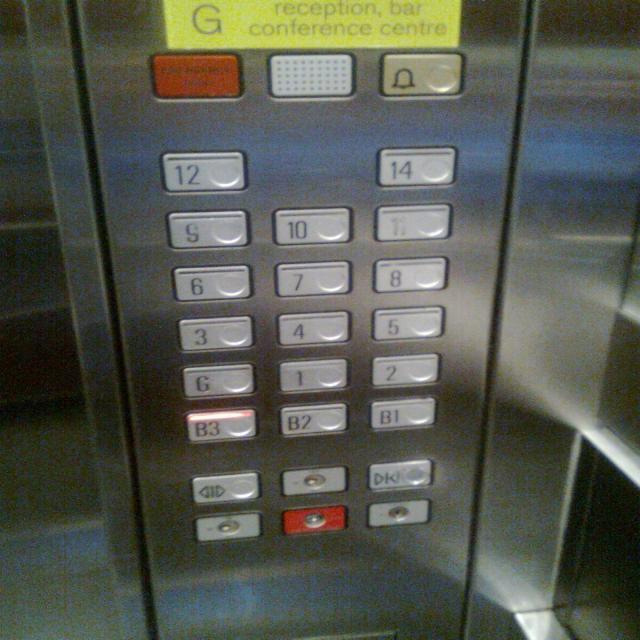1: (274, 356, 350, 393)
10: (270, 205, 353, 246)
11: (372, 202, 452, 242)
12: (159, 150, 248, 194)
14: (375, 143, 457, 187)
2: (368, 352, 440, 389)
3: (175, 314, 254, 352)
4: (274, 309, 351, 347)
5: (370, 304, 444, 342)
6: (170, 263, 254, 301)
7: (272, 258, 352, 298)
8: (370, 254, 449, 293)
9: (163, 208, 252, 250)
B1: (366, 396, 436, 432)
B2: (277, 400, 349, 437)
B3: (181, 406, 259, 442)
G: (178, 360, 258, 400)
alarm: (378, 51, 466, 98)
bt_keyhole: (279, 464, 350, 495), (279, 504, 350, 535), (364, 497, 432, 529), (192, 510, 262, 541)
close: (366, 458, 436, 492)
open: (190, 469, 262, 504)
speaker: (266, 52, 357, 100)
text_blur: (148, 52, 245, 102)
